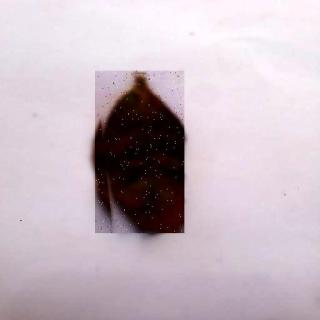Algal Leaf: (96, 72, 185, 234)
